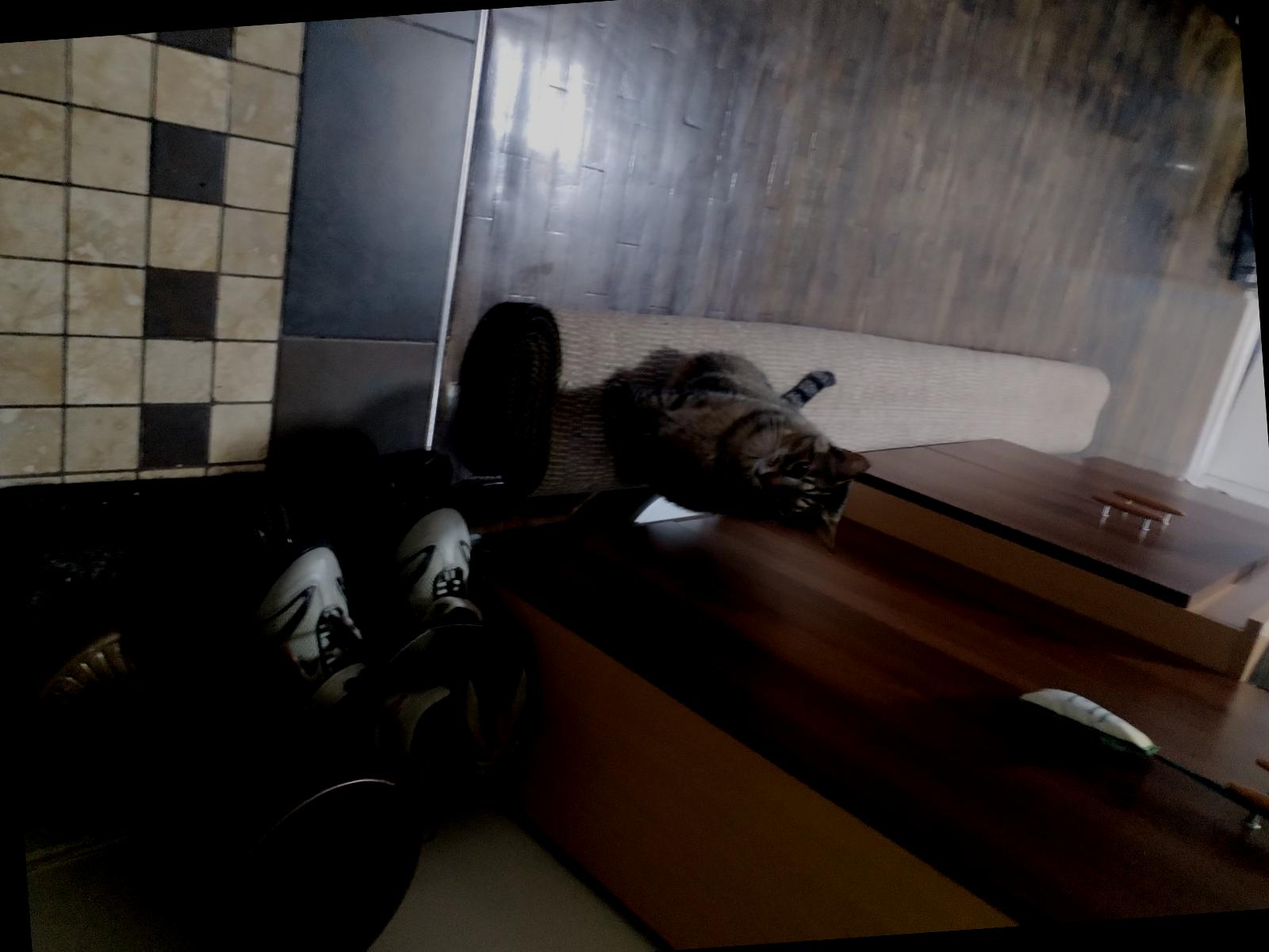macka: (598, 343, 877, 570)
